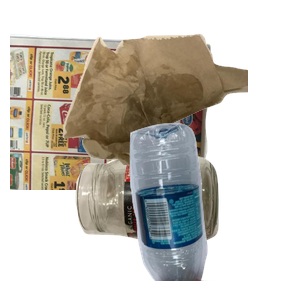glass: (73, 153, 284, 300)
paper: (10, 31, 214, 211)
plastic: (127, 120, 300, 300)
trash: (60, 31, 300, 189)
